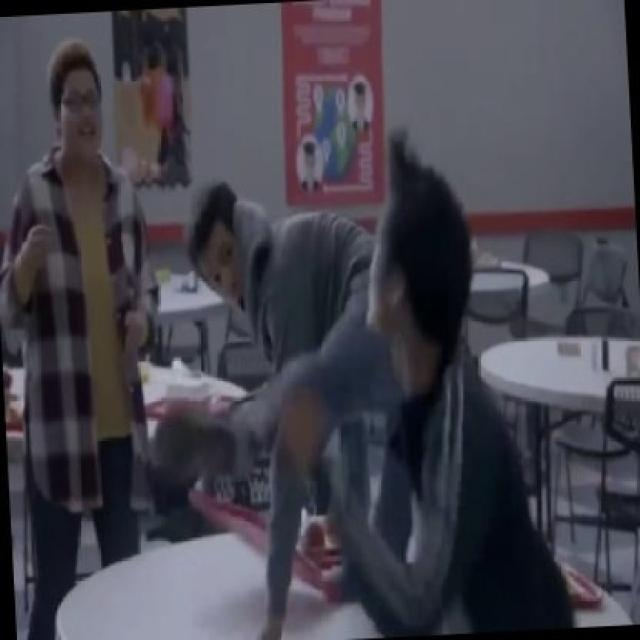fight: (189, 130, 579, 638)
non-fight: (0, 37, 157, 628)
